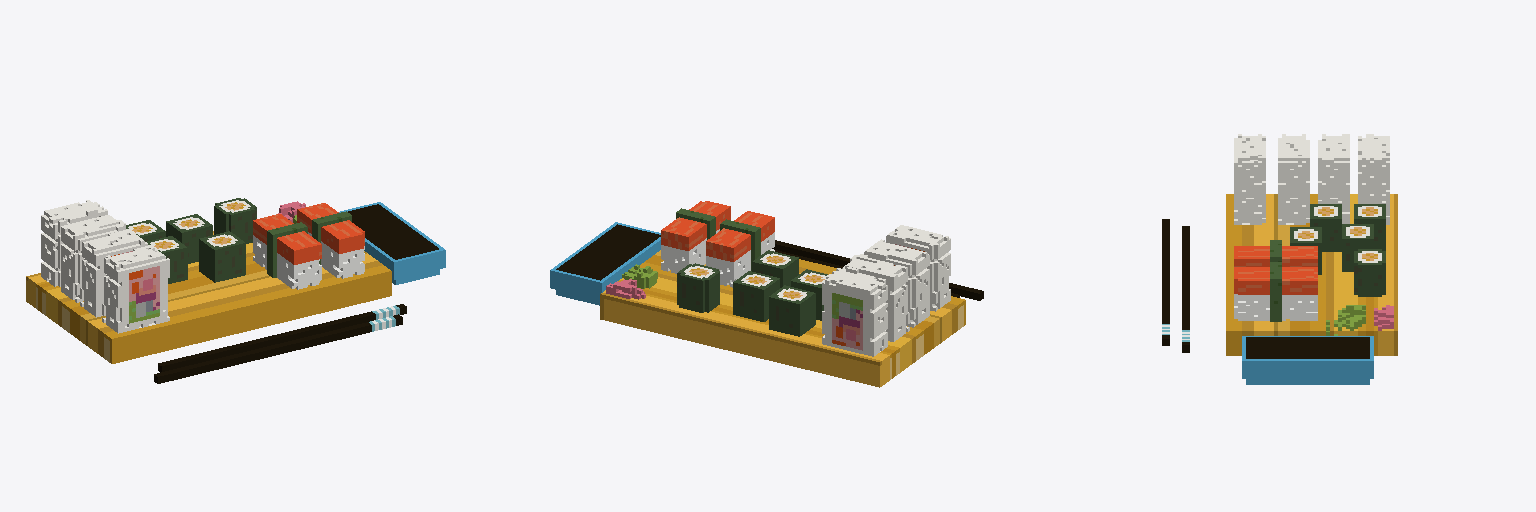
3 renders of one model, left to right at view 1: azimuth 30°, elevation 25°; view 2: azimuth 150°, elevation 25°; view 3: azimuth 270°, elevation 25°, orthographic.
Size of the model in its own units: 99 by 26 by 59.
1 materials, 1 textured.